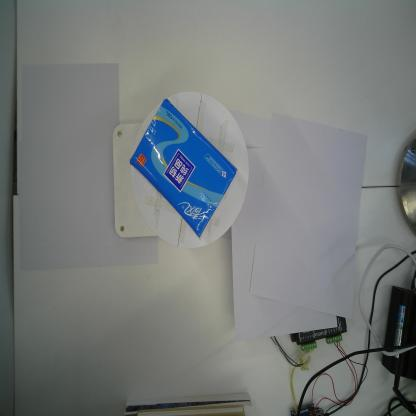Tissue: (128, 97, 239, 240)
